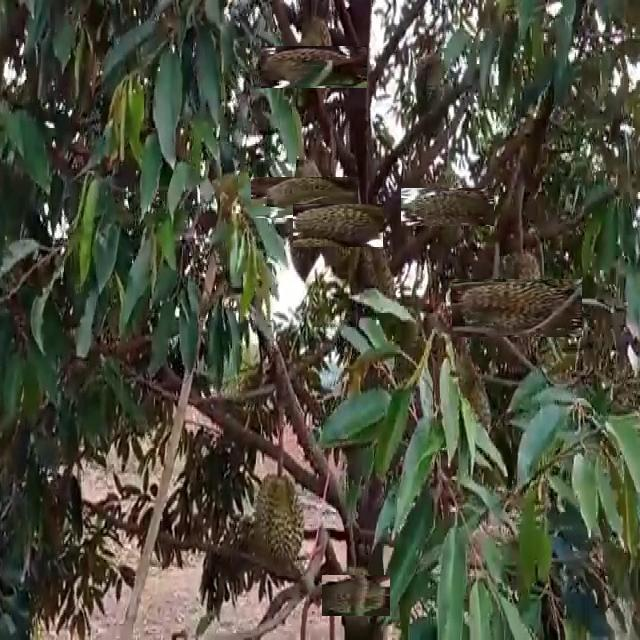durian: (470, 261, 565, 355), (249, 470, 307, 580), (268, 160, 342, 235), (277, 30, 352, 104), (305, 192, 371, 259), (414, 173, 480, 240), (411, 50, 452, 143), (328, 568, 383, 623), (393, 188, 419, 254)
